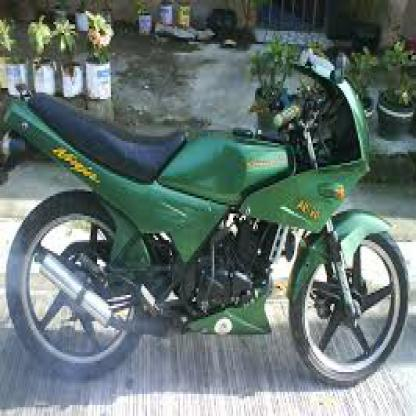Motorcycle: (5, 51, 412, 390)
